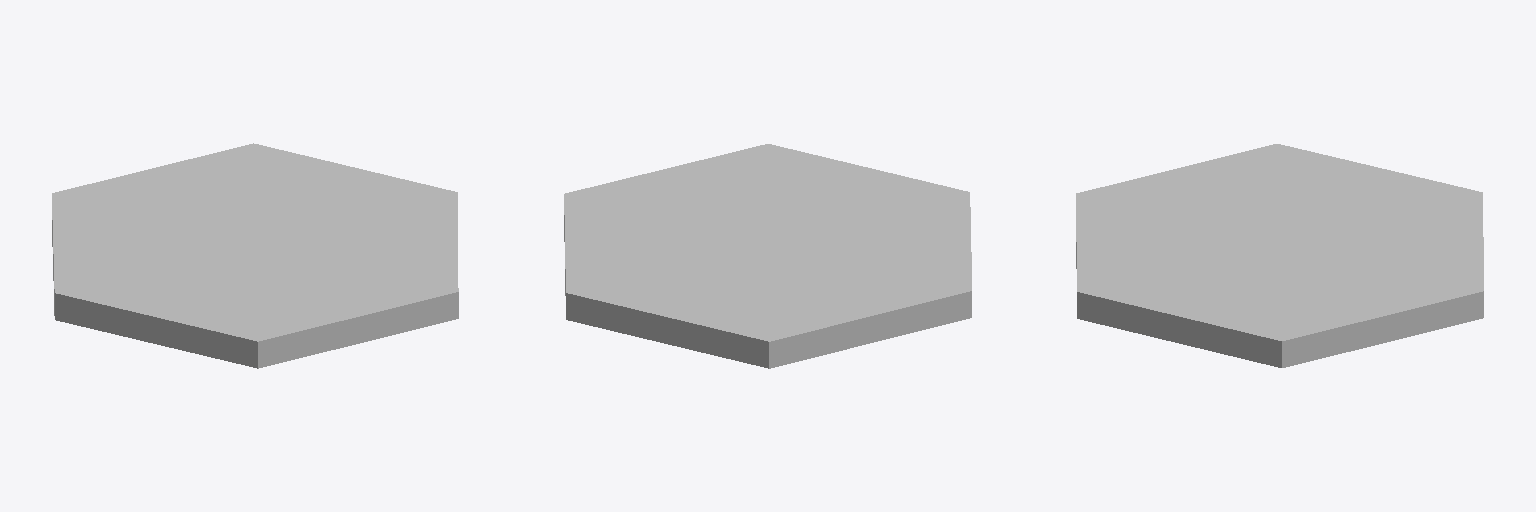
The model's file is polisModel3.obj.
The picture shows the model from 3 angles: view 1: azimuth 30°, elevation 25°; view 2: azimuth 150°, elevation 25°; view 3: azimuth 270°, elevation 25°; orthographic projection.
Visible parts, largest first — view 1: Plane; view 2: Plane; view 3: Plane.
Boxes of the visible parts, x1=… form: Plane: x1=52, y1=143, x2=458, y2=368; Plane: x1=564, y1=144, x2=971, y2=368; Plane: x1=1076, y1=144, x2=1483, y2=367.
Bounding box in the file's own units: 1.1 × 0.07 × 0.9595.